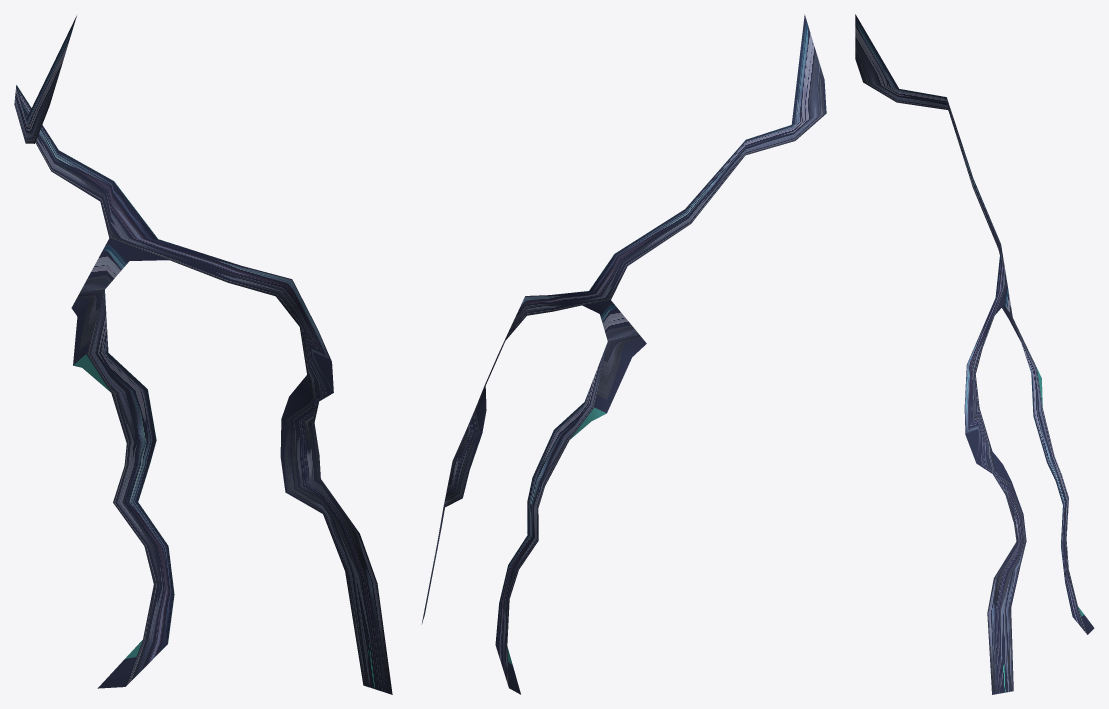
Rendered from Snake_waterfall_02.fbx.
The picture shows the model from 3 angles, left to right: view 1: azimuth 30°, elevation 25°; view 2: azimuth 150°, elevation 25°; view 3: azimuth 270°, elevation 25°; orthographic projection. The views are drawn at different scales.
Parts seen in each view (by area): view 1: Snake_waterfall_02; view 2: Snake_waterfall_02; view 3: Snake_waterfall_02.
Boxes of the visible parts, x1,y1,x2,y2 form: Snake_waterfall_02: [14, 15, 392, 694]; Snake_waterfall_02: [421, 14, 826, 694]; Snake_waterfall_02: [855, 14, 1094, 694].
Size of the model in its own units: 1.09 by 1.95 by 0.7683.
